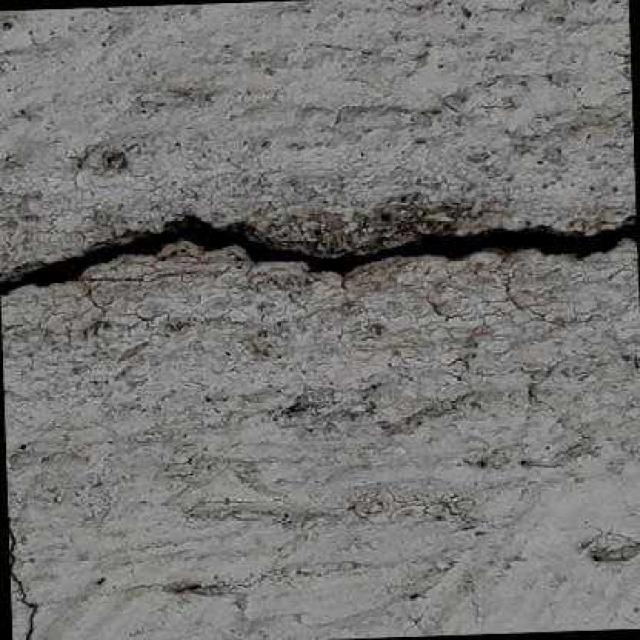D00: (0, 216, 638, 294)
